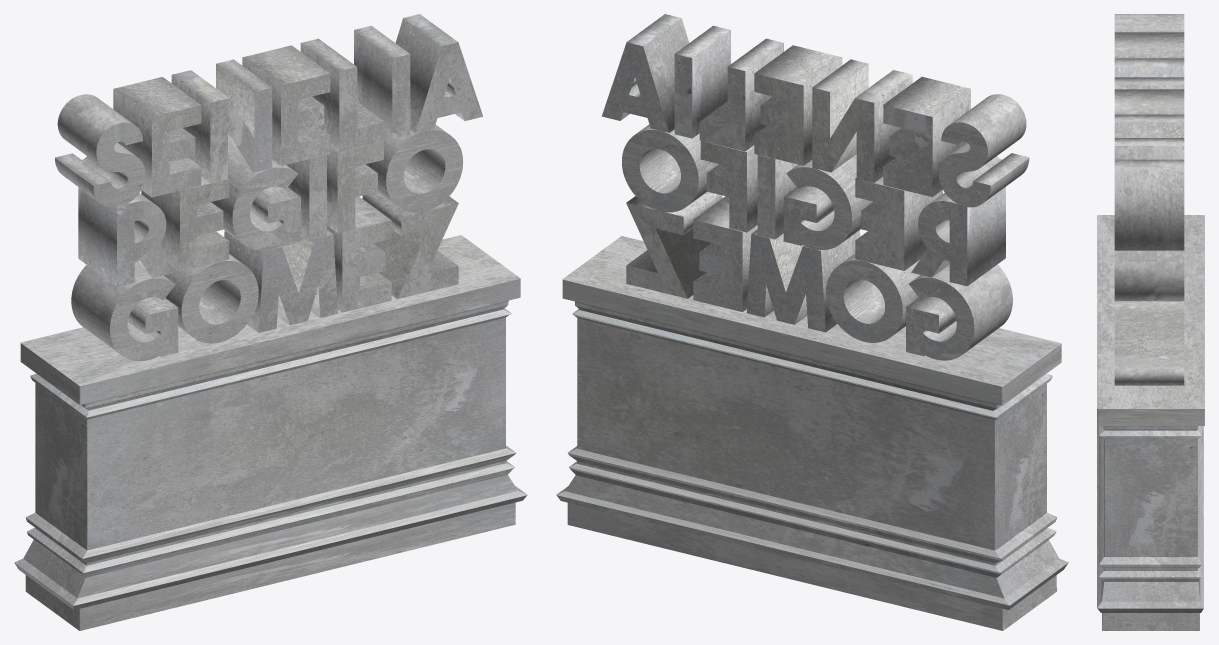
File: senelia-regifo-gomez.gltf
The picture shows the model from 3 angles, left to right: view 1: azimuth 30°, elevation 25°; view 2: azimuth 150°, elevation 25°; view 3: azimuth 270°, elevation 25°; orthographic projection. The views are drawn at different scales.
Parts seen in each view (by area): view 1: Cube, SENELIARENGIFOGOMEZ; view 2: Cube, SENELIARENGIFOGOMEZ; view 3: Cube, SENELIARENGIFOGOMEZ.
Part boxes in pixels (bbox=[...]): Cube: bbox=[14, 235, 527, 630]; SENELIARENGIFOGOMEZ: bbox=[55, 14, 482, 361]; Cube: bbox=[556, 236, 1068, 630]; SENELIARENGIFOGOMEZ: bbox=[601, 14, 1029, 360]; Cube: bbox=[1097, 215, 1204, 630]; SENELIARENGIFOGOMEZ: bbox=[1114, 14, 1184, 385].
Bounding box in the file's own units: 9.69 × 10.01 × 2.21.
2 materials, 2 textured.
